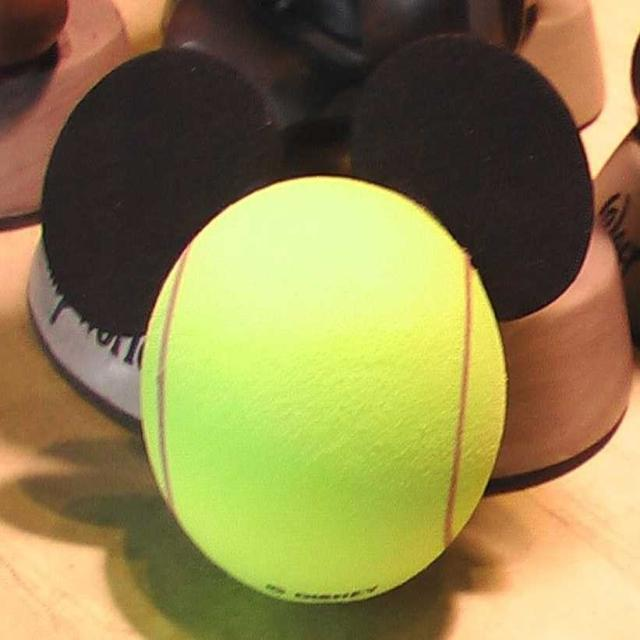Tennis_Ball: (140, 186, 516, 603)
